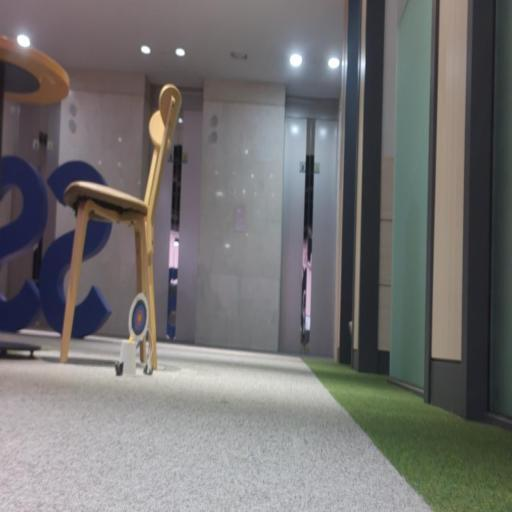target: (128, 292, 149, 342)
